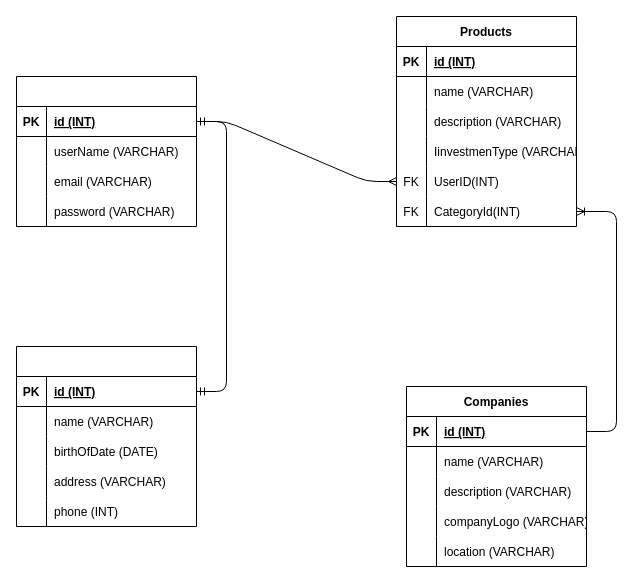
Some shapes in this 633 by 583 pixel diagram are drawn without their labels. The box of each missing label's shape, as (x1, y1, x2, y2) in pixels:
Profiles: (16, 346, 196, 526)
Users: (16, 76, 196, 226)
